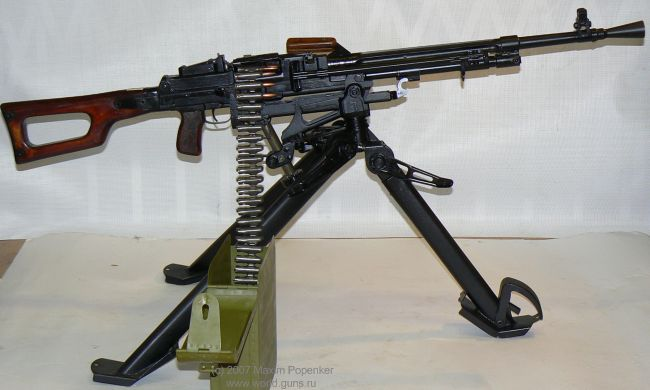rifle: (1, 8, 646, 177)
